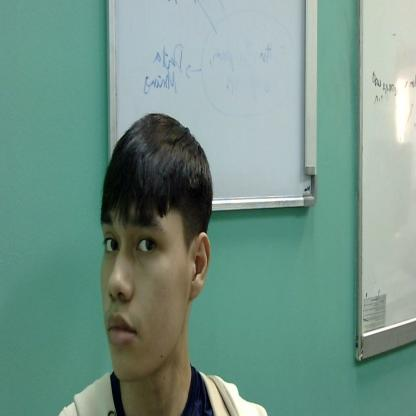Open-Eyes: (97, 212, 166, 270)
